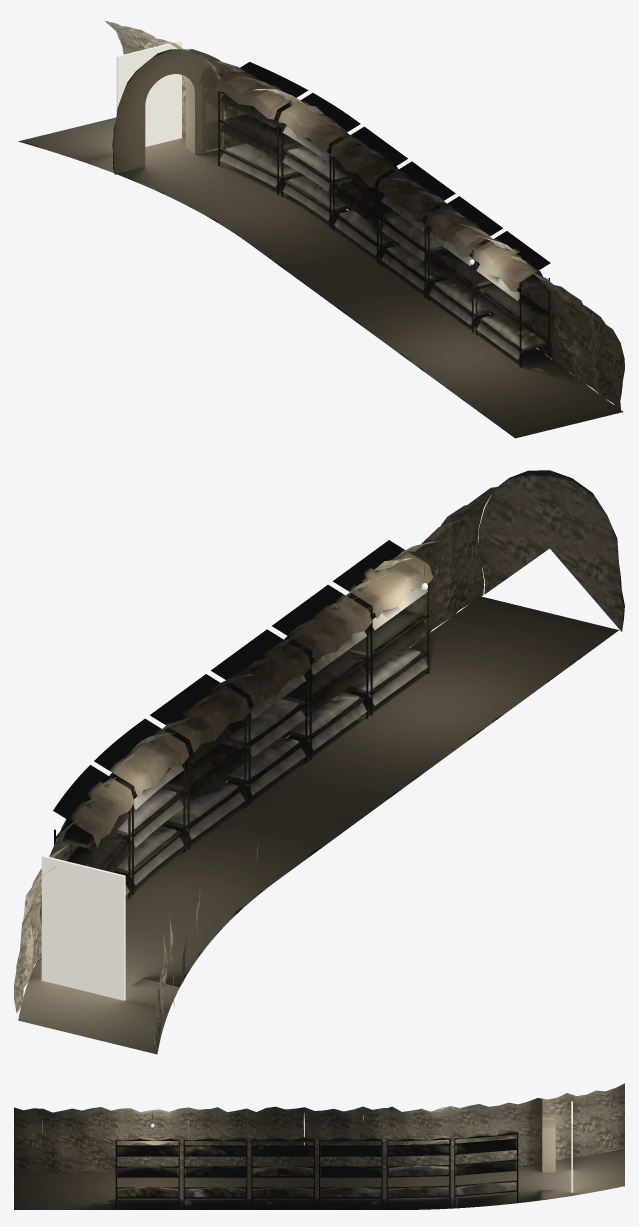
The model's file is albright-london-shelter.glb.
3 renders of one model, top to bottom at view 1: azimuth 30°, elevation 25°; view 2: azimuth 150°, elevation 25°; view 3: azimuth 270°, elevation 25°, orthographic. The views are drawn at different scales.
Parts seen in each view (by area): view 1: floor, artifact_bunks, artifact_tunnel, artifact_doorway, daylight_portal; view 2: floor, artifact_bunks, end_wall, artifact_tunnel, daylight_portal; view 3: artifact_tunnel, floor, artifact_bunks, artifact_doorway.
Part boxes in pixels (box(x1,y1,x2,y2)): floor: box(18, 117, 622, 438); artifact_bunks: box(215, 62, 550, 367); artifact_tunnel: box(105, 21, 624, 410); artifact_doorway: box(112, 49, 224, 174); daylight_portal: box(116, 40, 181, 146); floor: box(18, 596, 618, 1054); artifact_bunks: box(53, 540, 433, 898); end_wall: box(478, 470, 624, 631); artifact_tunnel: box(14, 484, 519, 1053); daylight_portal: box(41, 855, 125, 1000); artifact_tunnel: box(14, 1083, 624, 1172); floor: box(14, 1148, 624, 1209); artifact_bunks: box(115, 1130, 518, 1209); artifact_doorway: box(542, 1118, 555, 1172).
Bounding box in the file's own units: 4.62 × 2.76 × 18.5.
Materials: 2 (1 with a texture image).
